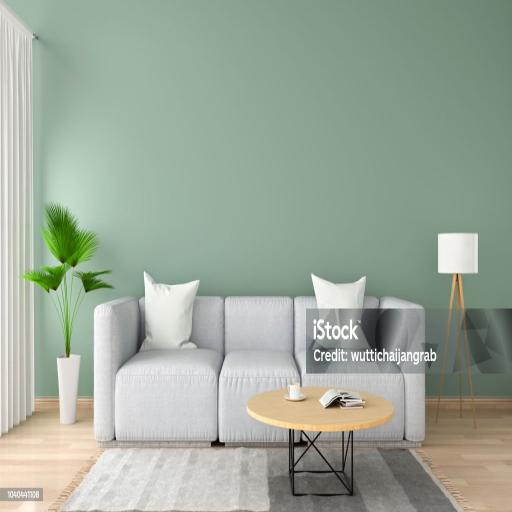back_cushion: (191, 296, 318, 355), (363, 297, 378, 334)
left_arm: (381, 298, 425, 353), (400, 359, 425, 439)
right_arm: (94, 297, 140, 440)
seat_cushion: (108, 349, 424, 444)
stallion-sofa: (94, 273, 424, 444)
